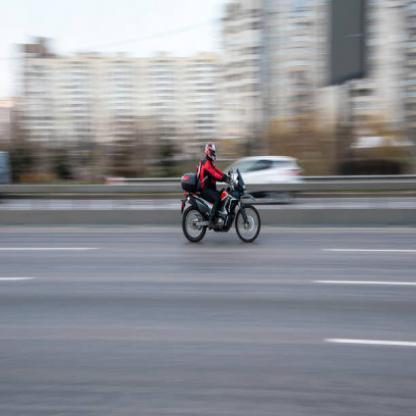Motorcycle: (176, 163, 263, 253)
